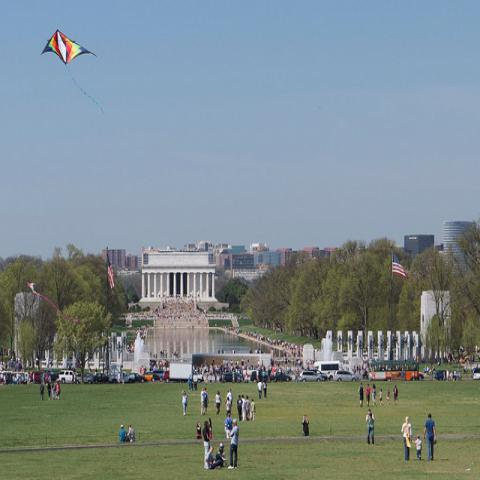bus: (372, 362, 419, 381), (314, 361, 340, 374)
car: (27, 334, 480, 398), (110, 371, 134, 385), (334, 369, 358, 382), (297, 371, 323, 383), (219, 372, 238, 383), (310, 369, 327, 381), (12, 372, 28, 384), (78, 373, 94, 384), (128, 373, 147, 382), (93, 374, 108, 384), (151, 374, 163, 382), (141, 372, 153, 380), (250, 371, 256, 382)
truck: (162, 362, 192, 384), (57, 369, 74, 385)
